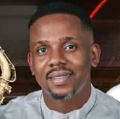without_facemask: (34, 60, 94, 101)
